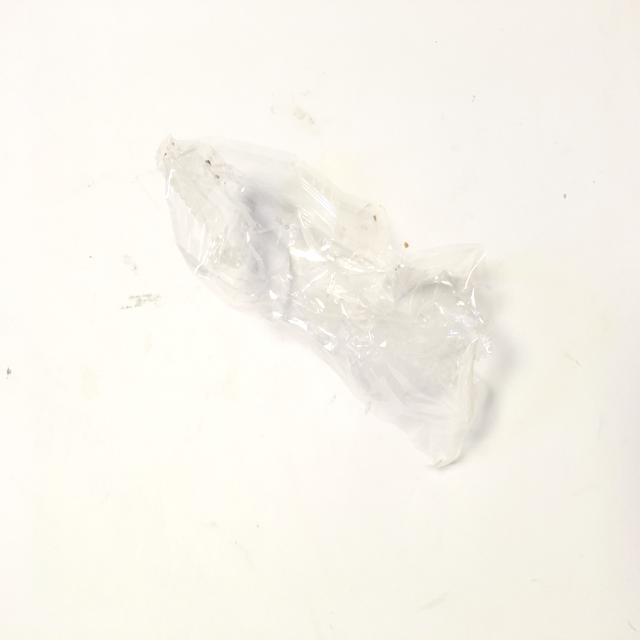Plastic: (120, 119, 530, 502)
